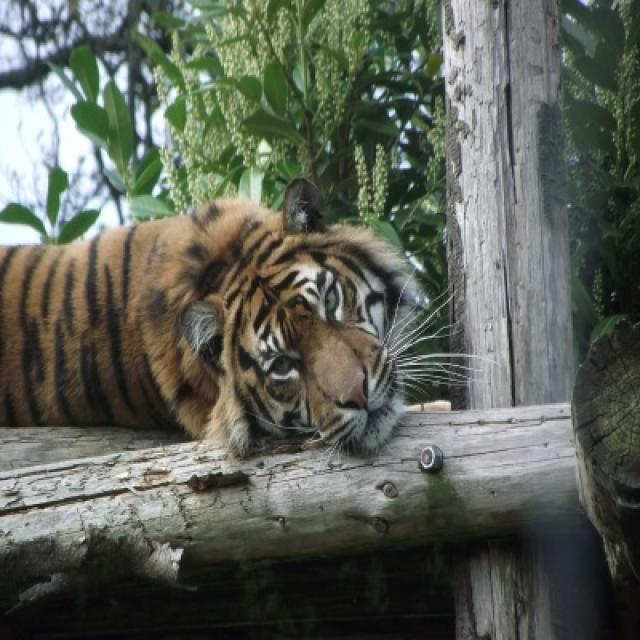Tiger: (0, 200, 423, 459)
